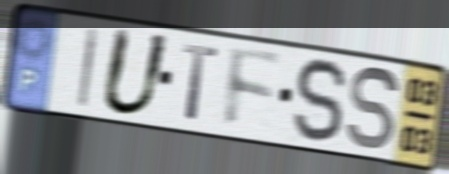F: (223, 43, 284, 132)
I: (75, 24, 102, 110)
S: (291, 56, 350, 147), (344, 63, 402, 154)
T: (180, 40, 220, 125)
U: (97, 24, 173, 119)
